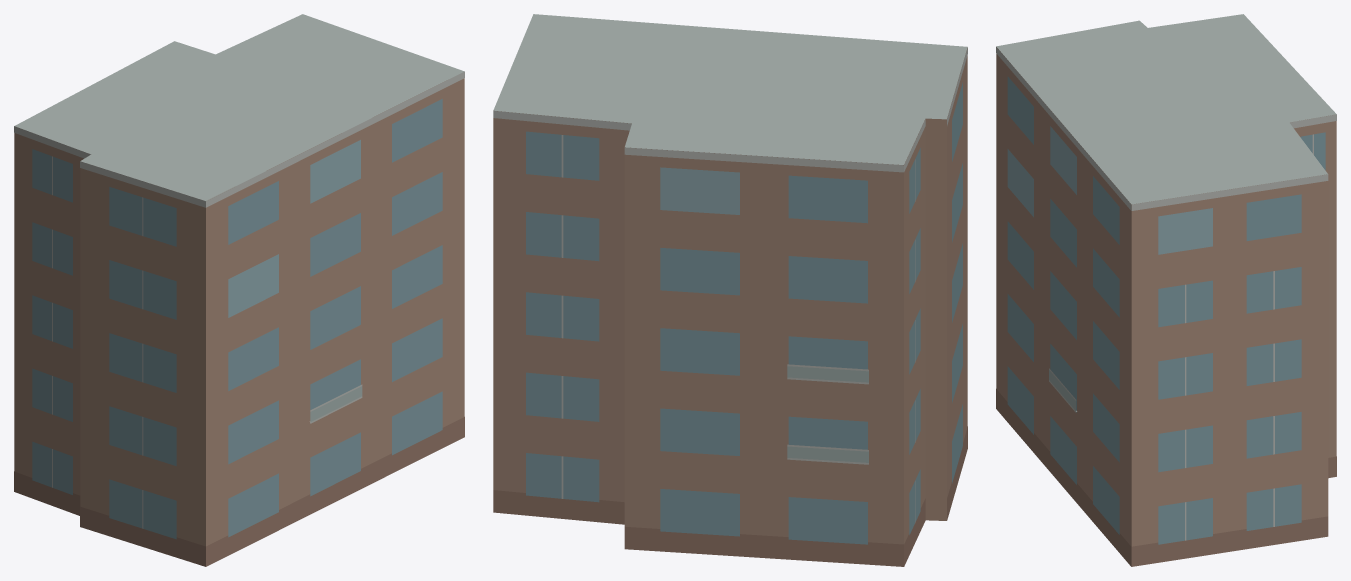
File: survey-upis-32843254.glb
The picture shows the model from 3 angles, left to right: view 1: azimuth 30°, elevation 25°; view 2: azimuth 150°, elevation 25°; view 3: azimuth 270°, elevation 25°; orthographic projection. The views are drawn at different scales.
Visible parts, largest first — view 1: survey-upis-32843254.tmp; view 2: survey-upis-32843254.tmp; view 3: survey-upis-32843254.tmp.
Part boxes in pixels (bbox=[...]): survey-upis-32843254.tmp: bbox=[14, 14, 464, 566]; survey-upis-32843254.tmp: bbox=[493, 14, 967, 566]; survey-upis-32843254.tmp: bbox=[996, 14, 1336, 566].
Size of the model in its own units: 15 by 13.3 by 11.34.
